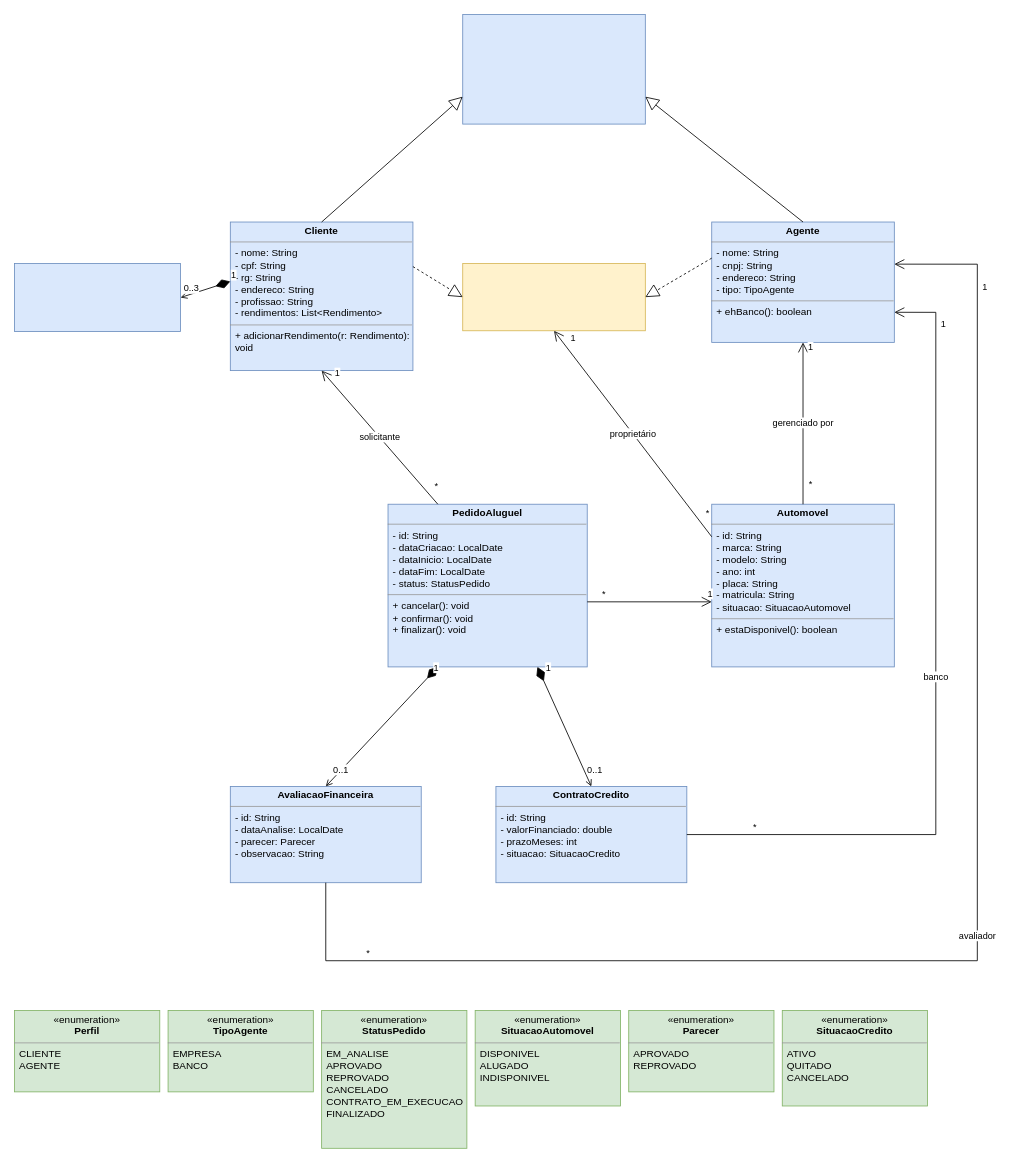
The diagram is 1010 pixels wide and 1163 high, and some of its shapes have lost their labels. Here are the shapes that lost their labels. From the top down, the box of each, then its label:
(462, 14, 645, 124): «abstract» Usuario - id: String - email: String - senha: String - perfil: Perfil
(14, 263, 181, 332): Rendimento - entidadeEmpregadora: String - valor: double
(462, 263, 645, 331): «interface» Proprietario + getNome(): String
